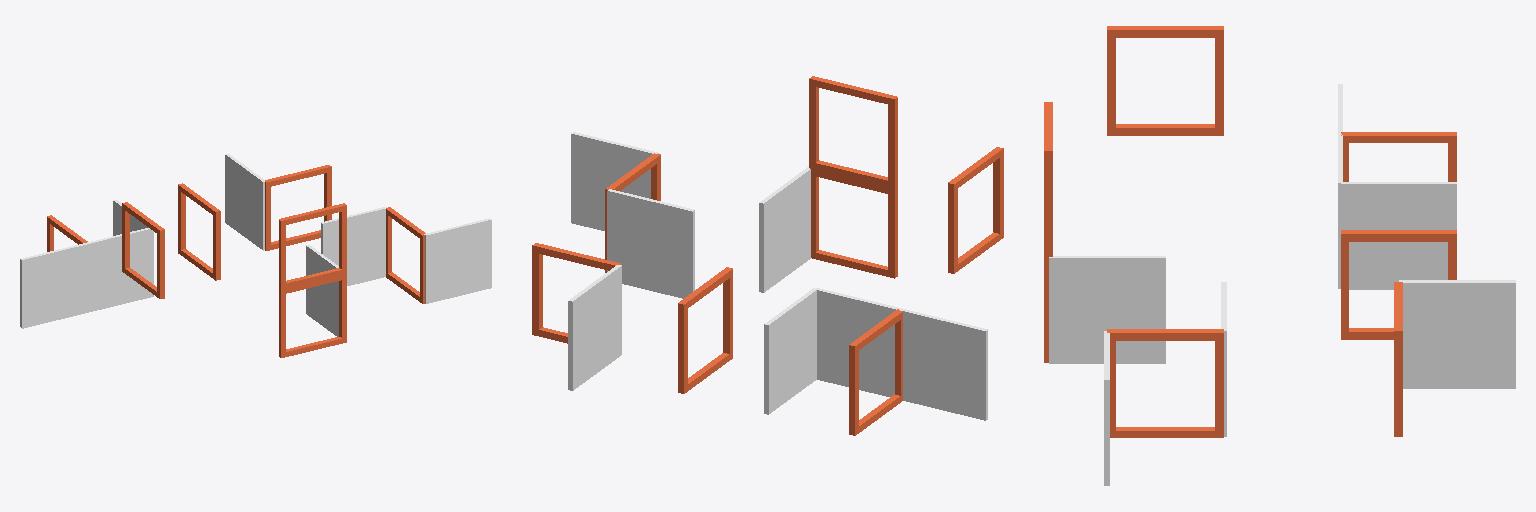
The robot description file, URDF, robot "track_walls":
<?xml version='1.0' encoding='UTF-8'?>
<robot name="track_walls">
  <link name="base">
    <inertial>
      <origin xyz="0.0 0.0 0.0" rpy="0.0 -0.0 0.0"/>
      <mass value="1.0"/>
      <inertia ixx="1.0" ixy="0.0" ixz="0.0" iyy="1.0" iyz="0.0" izz="1.0"/>
    </inertial>
  </link>
  <link name="obstacle_0">
    <inertial>
      <origin xyz="0.0 0.0 0.0" rpy="0.0 -0.0 0.0"/>
      <mass value="1.0"/>
      <inertia ixx="1.0" ixy="0.0" ixz="0.0" iyy="1.0" iyz="0.0" izz="1.0"/>
    </inertial>
    <visual>
      <geometry>
        <box size="4.  0.1 2. "/>
      </geometry>
      <material name="color[1.0, 1.0, 1.0, 1.0]"/>
      <origin xyz="0.0 0.0 0.0" rpy="0.0 -0.0 0.0"/>
    </visual>
    <collision>
      <geometry>
        <box size="4.  0.1 2. "/>
      </geometry>
      <origin xyz="0.0 0.0 0.0" rpy="0.0 -0.0 0.0"/>
    </collision>
  </link>
  <link name="obstacle_1">
    <inertial>
      <origin xyz="0.0 0.0 0.0" rpy="0.0 -0.0 0.0"/>
      <mass value="1.0"/>
      <inertia ixx="1.0" ixy="0.0" ixz="0.0" iyy="1.0" iyz="0.0" izz="1.0"/>
    </inertial>
    <visual>
      <geometry>
        <box size="0.1 2.  2. "/>
      </geometry>
      <material name="color[1.0, 1.0, 1.0, 1.0]"/>
      <origin xyz="0.0 0.0 0.0" rpy="0.0 -0.0 0.0"/>
    </visual>
    <collision>
      <geometry>
        <box size="0.1 2.  2. "/>
      </geometry>
      <origin xyz="0.0 0.0 0.0" rpy="0.0 -0.0 0.0"/>
    </collision>
  </link>
  <link name="obstacle_2">
    <inertial>
      <origin xyz="0.0 0.0 0.0" rpy="0.0 -0.0 0.0"/>
      <mass value="1.0"/>
      <inertia ixx="1.0" ixy="0.0" ixz="0.0" iyy="1.0" iyz="0.0" izz="1.0"/>
    </inertial>
    <visual>
      <geometry>
        <box size="0.1 2.  2. "/>
      </geometry>
      <material name="color[1.0, 1.0, 1.0, 1.0]"/>
      <origin xyz="0.0 0.0 0.0" rpy="0.0 -0.0 0.0"/>
    </visual>
    <collision>
      <geometry>
        <box size="0.1 2.  2. "/>
      </geometry>
      <origin xyz="0.0 0.0 0.0" rpy="0.0 -0.0 0.0"/>
    </collision>
  </link>
  <link name="obstacle_3">
    <inertial>
      <origin xyz="0.0 0.0 0.0" rpy="0.0 -0.0 0.0"/>
      <mass value="1.0"/>
      <inertia ixx="1.0" ixy="0.0" ixz="0.0" iyy="1.0" iyz="0.0" izz="1.0"/>
    </inertial>
    <visual>
      <geometry>
        <box size="2.  0.1 2. "/>
      </geometry>
      <material name="color[1.0, 1.0, 1.0, 1.0]"/>
      <origin xyz="0.0 0.0 0.0" rpy="0.0 -0.0 0.0"/>
    </visual>
    <collision>
      <geometry>
        <box size="2.  0.1 2. "/>
      </geometry>
      <origin xyz="0.0 0.0 0.0" rpy="0.0 -0.0 0.0"/>
    </collision>
  </link>
  <link name="obstacle_4">
    <inertial>
      <origin xyz="0.0 0.0 0.0" rpy="0.0 -0.0 0.0"/>
      <mass value="1.0"/>
      <inertia ixx="1.0" ixy="0.0" ixz="0.0" iyy="1.0" iyz="0.0" izz="1.0"/>
    </inertial>
    <visual>
      <geometry>
        <box size="2.  0.1 2. "/>
      </geometry>
      <material name="color[1.0, 1.0, 1.0, 1.0]"/>
      <origin xyz="0.0 0.0 0.0" rpy="0.0 -0.0 0.0"/>
    </visual>
    <collision>
      <geometry>
        <box size="2.  0.1 2. "/>
      </geometry>
      <origin xyz="0.0 0.0 0.0" rpy="0.0 -0.0 0.0"/>
    </collision>
  </link>
  <link name="obstacle_5">
    <inertial>
      <origin xyz="0.0 0.0 0.0" rpy="0.0 -0.0 0.0"/>
      <mass value="1.0"/>
      <inertia ixx="1.0" ixy="0.0" ixz="0.0" iyy="1.0" iyz="0.0" izz="1.0"/>
    </inertial>
    <visual>
      <geometry>
        <box size="0.1 2.  2. "/>
      </geometry>
      <material name="color[1.0, 1.0, 1.0, 1.0]"/>
      <origin xyz="0.0 0.0 0.0" rpy="0.0 -0.0 0.0"/>
    </visual>
    <collision>
      <geometry>
        <box size="0.1 2.  2. "/>
      </geometry>
      <origin xyz="0.0 0.0 0.0" rpy="0.0 -0.0 0.0"/>
    </collision>
  </link>
  <link name="gate_1">
    <inertial>
      <origin xyz="0.0 0.0 0.0" rpy="0.0 -0.0 0.0"/>
      <mass value="1.0"/>
      <inertia ixx="1.0" ixy="0.0" ixz="0.0" iyy="1.0" iyz="0.0" izz="1.0"/>
    </inertial>
    <visual>
      <geometry>
        <box size="0.15 2.   0.15"/>
      </geometry>
      <material name="color[1.0, 0.5, 0.3, 1.0]"/>
      <origin xyz="0.0 0.0 0.925" rpy="0.0 0.0 0.0"/>
    </visual>
    <visual>
      <geometry>
        <box size="0.15 2.   0.15"/>
      </geometry>
      <material name="color[1.0, 0.5, 0.3, 1.0]"/>
      <origin xyz="0.0 0.0 -0.925" rpy="0.0 0.0 0.0"/>
    </visual>
    <visual>
      <geometry>
        <box size="0.15 0.15 2.  "/>
      </geometry>
      <material name="color[1.0, 0.5, 0.3, 1.0]"/>
      <origin xyz="0.0 0.925 0.0" rpy="0.0 0.0 0.0"/>
    </visual>
    <visual>
      <geometry>
        <box size="0.15 0.15 2.  "/>
      </geometry>
      <material name="color[1.0, 0.5, 0.3, 1.0]"/>
      <origin xyz="0.0 -0.925 0.0" rpy="0.0 0.0 0.0"/>
    </visual>
    <collision>
      <geometry>
        <box size="0.15 2.   0.15"/>
      </geometry>
      <origin xyz="0.0 0.0 0.925" rpy="0.0 0.0 0.0"/>
    </collision>
    <collision>
      <geometry>
        <box size="0.15 2.   0.15"/>
      </geometry>
      <origin xyz="0.0 0.0 -0.925" rpy="0.0 0.0 0.0"/>
    </collision>
    <collision>
      <geometry>
        <box size="0.15 0.15 2.  "/>
      </geometry>
      <origin xyz="0.0 0.925 0.0" rpy="0.0 0.0 0.0"/>
    </collision>
    <collision>
      <geometry>
        <box size="0.15 0.15 2.  "/>
      </geometry>
      <origin xyz="0.0 -0.925 0.0" rpy="0.0 0.0 0.0"/>
    </collision>
  </link>
  <link name="gate_2">
    <inertial>
      <origin xyz="0.0 0.0 0.0" rpy="0.0 -0.0 0.0"/>
      <mass value="1.0"/>
      <inertia ixx="1.0" ixy="0.0" ixz="0.0" iyy="1.0" iyz="0.0" izz="1.0"/>
    </inertial>
    <visual>
      <geometry>
        <box size="0.15 2.   0.15"/>
      </geometry>
      <material name="color[1.0, 0.5, 0.3, 1.0]"/>
      <origin xyz="0.0 0.0 0.925" rpy="0.0 0.0 0.0"/>
    </visual>
    <visual>
      <geometry>
        <box size="0.15 2.   0.15"/>
      </geometry>
      <material name="color[1.0, 0.5, 0.3, 1.0]"/>
      <origin xyz="0.0 0.0 -0.925" rpy="0.0 0.0 0.0"/>
    </visual>
    <visual>
      <geometry>
        <box size="0.15 0.15 2.  "/>
      </geometry>
      <material name="color[1.0, 0.5, 0.3, 1.0]"/>
      <origin xyz="0.0 0.925 0.0" rpy="0.0 0.0 0.0"/>
    </visual>
    <visual>
      <geometry>
        <box size="0.15 0.15 2.  "/>
      </geometry>
      <material name="color[1.0, 0.5, 0.3, 1.0]"/>
      <origin xyz="0.0 -0.925 0.0" rpy="0.0 0.0 0.0"/>
    </visual>
    <collision>
      <geometry>
        <box size="0.15 2.   0.15"/>
      </geometry>
      <origin xyz="0.0 0.0 0.925" rpy="0.0 0.0 0.0"/>
    </collision>
    <collision>
      <geometry>
        <box size="0.15 2.   0.15"/>
      </geometry>
      <origin xyz="0.0 0.0 -0.925" rpy="0.0 0.0 0.0"/>
    </collision>
    <collision>
      <geometry>
        <box size="0.15 0.15 2.  "/>
      </geometry>
      <origin xyz="0.0 0.925 0.0" rpy="0.0 0.0 0.0"/>
    </collision>
    <collision>
      <geometry>
        <box size="0.15 0.15 2.  "/>
      </geometry>
      <origin xyz="0.0 -0.925 0.0" rpy="0.0 0.0 0.0"/>
    </collision>
  </link>
  <link name="gate_3">
    <inertial>
      <origin xyz="0.0 0.0 0.0" rpy="0.0 -0.0 0.0"/>
      <mass value="1.0"/>
      <inertia ixx="1.0" ixy="0.0" ixz="0.0" iyy="1.0" iyz="0.0" izz="1.0"/>
    </inertial>
    <visual>
      <geometry>
        <box size="0.15 2.   0.15"/>
      </geometry>
      <material name="color[1.0, 0.5, 0.3, 1.0]"/>
      <origin xyz="0.0 0.0 0.925" rpy="0.0 0.0 0.0"/>
    </visual>
    <visual>
      <geometry>
        <box size="0.15 2.   0.15"/>
      </geometry>
      <material name="color[1.0, 0.5, 0.3, 1.0]"/>
      <origin xyz="0.0 0.0 -0.925" rpy="0.0 0.0 0.0"/>
    </visual>
    <visual>
      <geometry>
        <box size="0.15 0.15 2.  "/>
      </geometry>
      <material name="color[1.0, 0.5, 0.3, 1.0]"/>
      <origin xyz="0.0 0.925 0.0" rpy="0.0 0.0 0.0"/>
    </visual>
    <visual>
      <geometry>
        <box size="0.15 0.15 2.  "/>
      </geometry>
      <material name="color[1.0, 0.5, 0.3, 1.0]"/>
      <origin xyz="0.0 -0.925 0.0" rpy="0.0 0.0 0.0"/>
    </visual>
    <collision>
      <geometry>
        <box size="0.15 2.   0.15"/>
      </geometry>
      <origin xyz="0.0 0.0 0.925" rpy="0.0 0.0 0.0"/>
    </collision>
    <collision>
      <geometry>
        <box size="0.15 2.   0.15"/>
      </geometry>
      <origin xyz="0.0 0.0 -0.925" rpy="0.0 0.0 0.0"/>
    </collision>
    <collision>
      <geometry>
        <box size="0.15 0.15 2.  "/>
      </geometry>
      <origin xyz="0.0 0.925 0.0" rpy="0.0 0.0 0.0"/>
    </collision>
    <collision>
      <geometry>
        <box size="0.15 0.15 2.  "/>
      </geometry>
      <origin xyz="0.0 -0.925 0.0" rpy="0.0 0.0 0.0"/>
    </collision>
  </link>
  <link name="gate_4">
    <inertial>
      <origin xyz="0.0 0.0 0.0" rpy="0.0 -0.0 0.0"/>
      <mass value="1.0"/>
      <inertia ixx="1.0" ixy="0.0" ixz="0.0" iyy="1.0" iyz="0.0" izz="1.0"/>
    </inertial>
    <visual>
      <geometry>
        <box size="0.15 2.   0.15"/>
      </geometry>
      <material name="color[1.0, 0.5, 0.3, 1.0]"/>
      <origin xyz="0.0 0.0 0.925" rpy="0.0 0.0 0.0"/>
    </visual>
    <visual>
      <geometry>
        <box size="0.15 2.   0.15"/>
      </geometry>
      <material name="color[1.0, 0.5, 0.3, 1.0]"/>
      <origin xyz="0.0 0.0 -0.925" rpy="0.0 0.0 0.0"/>
    </visual>
    <visual>
      <geometry>
        <box size="0.15 0.15 2.  "/>
      </geometry>
      <material name="color[1.0, 0.5, 0.3, 1.0]"/>
      <origin xyz="0.0 0.925 0.0" rpy="0.0 0.0 0.0"/>
    </visual>
    <visual>
      <geometry>
        <box size="0.15 0.15 2.  "/>
      </geometry>
      <material name="color[1.0, 0.5, 0.3, 1.0]"/>
      <origin xyz="0.0 -0.925 0.0" rpy="0.0 0.0 0.0"/>
    </visual>
    <collision>
      <geometry>
        <box size="0.15 2.   0.15"/>
      </geometry>
      <origin xyz="0.0 0.0 0.925" rpy="0.0 0.0 0.0"/>
    </collision>
    <collision>
      <geometry>
        <box size="0.15 2.   0.15"/>
      </geometry>
      <origin xyz="0.0 0.0 -0.925" rpy="0.0 0.0 0.0"/>
    </collision>
    <collision>
      <geometry>
        <box size="0.15 0.15 2.  "/>
      </geometry>
      <origin xyz="0.0 0.925 0.0" rpy="0.0 0.0 0.0"/>
    </collision>
    <collision>
      <geometry>
        <box size="0.15 0.15 2.  "/>
      </geometry>
      <origin xyz="0.0 -0.925 0.0" rpy="0.0 0.0 0.0"/>
    </collision>
  </link>
  <link name="gate_5">
    <inertial>
      <origin xyz="0.0 0.0 0.0" rpy="0.0 -0.0 0.0"/>
      <mass value="1.0"/>
      <inertia ixx="1.0" ixy="0.0" ixz="0.0" iyy="1.0" iyz="0.0" izz="1.0"/>
    </inertial>
    <visual>
      <geometry>
        <box size="0.15 2.   0.15"/>
      </geometry>
      <material name="color[1.0, 0.5, 0.3, 1.0]"/>
      <origin xyz="0.0 0.0 0.925" rpy="0.0 0.0 0.0"/>
    </visual>
    <visual>
      <geometry>
        <box size="0.15 2.   0.15"/>
      </geometry>
      <material name="color[1.0, 0.5, 0.3, 1.0]"/>
      <origin xyz="0.0 0.0 -0.925" rpy="0.0 0.0 0.0"/>
    </visual>
    <visual>
      <geometry>
        <box size="0.15 0.15 2.  "/>
      </geometry>
      <material name="color[1.0, 0.5, 0.3, 1.0]"/>
      <origin xyz="0.0 0.925 0.0" rpy="0.0 0.0 0.0"/>
    </visual>
    <visual>
      <geometry>
        <box size="0.15 0.15 2.  "/>
      </geometry>
      <material name="color[1.0, 0.5, 0.3, 1.0]"/>
      <origin xyz="0.0 -0.925 0.0" rpy="0.0 0.0 0.0"/>
    </visual>
    <collision>
      <geometry>
        <box size="0.15 2.   0.15"/>
      </geometry>
      <origin xyz="0.0 0.0 0.925" rpy="0.0 0.0 0.0"/>
    </collision>
    <collision>
      <geometry>
        <box size="0.15 2.   0.15"/>
      </geometry>
      <origin xyz="0.0 0.0 -0.925" rpy="0.0 0.0 0.0"/>
    </collision>
    <collision>
      <geometry>
        <box size="0.15 0.15 2.  "/>
      </geometry>
      <origin xyz="0.0 0.925 0.0" rpy="0.0 0.0 0.0"/>
    </collision>
    <collision>
      <geometry>
        <box size="0.15 0.15 2.  "/>
      </geometry>
      <origin xyz="0.0 -0.925 0.0" rpy="0.0 0.0 0.0"/>
    </collision>
  </link>
  <link name="gate_6">
    <inertial>
      <origin xyz="0.0 0.0 0.0" rpy="0.0 -0.0 0.0"/>
      <mass value="1.0"/>
      <inertia ixx="1.0" ixy="0.0" ixz="0.0" iyy="1.0" iyz="0.0" izz="1.0"/>
    </inertial>
    <visual>
      <geometry>
        <box size="0.15 2.   0.15"/>
      </geometry>
      <material name="color[1.0, 0.5, 0.3, 1.0]"/>
      <origin xyz="0.0 0.0 0.925" rpy="0.0 0.0 0.0"/>
    </visual>
    <visual>
      <geometry>
        <box size="0.15 2.   0.15"/>
      </geometry>
      <material name="color[1.0, 0.5, 0.3, 1.0]"/>
      <origin xyz="0.0 0.0 -0.925" rpy="0.0 0.0 0.0"/>
    </visual>
    <visual>
      <geometry>
        <box size="0.15 0.15 2.  "/>
      </geometry>
      <material name="color[1.0, 0.5, 0.3, 1.0]"/>
      <origin xyz="0.0 0.925 0.0" rpy="0.0 0.0 0.0"/>
    </visual>
    <visual>
      <geometry>
        <box size="0.15 0.15 2.  "/>
      </geometry>
      <material name="color[1.0, 0.5, 0.3, 1.0]"/>
      <origin xyz="0.0 -0.925 0.0" rpy="0.0 0.0 0.0"/>
    </visual>
    <collision>
      <geometry>
        <box size="0.15 2.   0.15"/>
      </geometry>
      <origin xyz="0.0 0.0 0.925" rpy="0.0 0.0 0.0"/>
    </collision>
    <collision>
      <geometry>
        <box size="0.15 2.   0.15"/>
      </geometry>
      <origin xyz="0.0 0.0 -0.925" rpy="0.0 0.0 0.0"/>
    </collision>
    <collision>
      <geometry>
        <box size="0.15 0.15 2.  "/>
      </geometry>
      <origin xyz="0.0 0.925 0.0" rpy="0.0 0.0 0.0"/>
    </collision>
    <collision>
      <geometry>
        <box size="0.15 0.15 2.  "/>
      </geometry>
      <origin xyz="0.0 -0.925 0.0" rpy="0.0 0.0 0.0"/>
    </collision>
  </link>
  <link name="gate_7">
    <inertial>
      <origin xyz="0.0 0.0 0.0" rpy="0.0 -0.0 0.0"/>
      <mass value="1.0"/>
      <inertia ixx="1.0" ixy="0.0" ixz="0.0" iyy="1.0" iyz="0.0" izz="1.0"/>
    </inertial>
    <visual>
      <geometry>
        <box size="0.15 2.   0.15"/>
      </geometry>
      <material name="color[1.0, 0.5, 0.3, 1.0]"/>
      <origin xyz="0.0 0.0 0.925" rpy="0.0 0.0 0.0"/>
    </visual>
    <visual>
      <geometry>
        <box size="0.15 2.   0.15"/>
      </geometry>
      <material name="color[1.0, 0.5, 0.3, 1.0]"/>
      <origin xyz="0.0 0.0 -0.925" rpy="0.0 0.0 0.0"/>
    </visual>
    <visual>
      <geometry>
        <box size="0.15 0.15 2.  "/>
      </geometry>
      <material name="color[1.0, 0.5, 0.3, 1.0]"/>
      <origin xyz="0.0 0.925 0.0" rpy="0.0 0.0 0.0"/>
    </visual>
    <visual>
      <geometry>
        <box size="0.15 0.15 2.  "/>
      </geometry>
      <material name="color[1.0, 0.5, 0.3, 1.0]"/>
      <origin xyz="0.0 -0.925 0.0" rpy="0.0 0.0 0.0"/>
    </visual>
    <collision>
      <geometry>
        <box size="0.15 2.   0.15"/>
      </geometry>
      <origin xyz="0.0 0.0 0.925" rpy="0.0 0.0 0.0"/>
    </collision>
    <collision>
      <geometry>
        <box size="0.15 2.   0.15"/>
      </geometry>
      <origin xyz="0.0 0.0 -0.925" rpy="0.0 0.0 0.0"/>
    </collision>
    <collision>
      <geometry>
        <box size="0.15 0.15 2.  "/>
      </geometry>
      <origin xyz="0.0 0.925 0.0" rpy="0.0 0.0 0.0"/>
    </collision>
    <collision>
      <geometry>
        <box size="0.15 0.15 2.  "/>
      </geometry>
      <origin xyz="0.0 -0.925 0.0" rpy="0.0 0.0 0.0"/>
    </collision>
  </link>
  <joint name="base_obstacle_0" type="fixed">
    <parent link="base"/>
    <child link="obstacle_0"/>
    <axis xyz="1. 0. 0."/>
    <origin xyz="-4.0 2.0 1.0" rpy="0.0 0.0 0.0"/>
  </joint>
  <joint name="base_obstacle_1" type="fixed">
    <parent link="base"/>
    <child link="obstacle_1"/>
    <axis xyz="1. 0. 0."/>
    <origin xyz="-2.0 3.0 1.0" rpy="0.0 0.0 0.0"/>
  </joint>
  <joint name="base_obstacle_2" type="fixed">
    <parent link="base"/>
    <child link="obstacle_2"/>
    <axis xyz="1. 0. 0."/>
    <origin xyz="2.0 4.0 1.0" rpy="0.0 0.0 0.0"/>
  </joint>
  <joint name="base_obstacle_3" type="fixed">
    <parent link="base"/>
    <child link="obstacle_3"/>
    <axis xyz="1. 0. 0."/>
    <origin xyz="3.0 0.0 1.0" rpy="0.0 0.0 0.0"/>
  </joint>
  <joint name="base_obstacle_4" type="fixed">
    <parent link="base"/>
    <child link="obstacle_4"/>
    <axis xyz="1. 0. 0."/>
    <origin xyz="5.0 -2.0 1.0" rpy="0.0 0.0 0.0"/>
  </joint>
  <joint name="base_obstacle_5" type="fixed">
    <parent link="base"/>
    <child link="obstacle_5"/>
    <axis xyz="1. 0. 0."/>
    <origin xyz="1.0 -2.0 1.0" rpy="0.0 0.0 0.0"/>
  </joint>
  <joint name="base_gate_1" type="fixed">
    <parent link="base"/>
    <child link="gate_1"/>
    <axis xyz="1. 0. 0."/>
    <origin xyz="-4.0 3.0 1.0" rpy="0.0 0.0 0.0"/>
  </joint>
  <joint name="base_gate_2" type="fixed">
    <parent link="base"/>
    <child link="gate_2"/>
    <axis xyz="1. 0. 0."/>
    <origin xyz="0.0 3.0 1.0" rpy="0.0 0.0 0.0"/>
  </joint>
  <joint name="base_gate_3" type="fixed">
    <parent link="base"/>
    <child link="gate_3"/>
    <axis xyz="1. 0. 0."/>
    <origin xyz="3.0 3.0 1.0" rpy="0.0 0.0 -1.5707963267948966"/>
  </joint>
  <joint name="base_gate_4" type="fixed">
    <parent link="base"/>
    <child link="gate_4"/>
    <axis xyz="1. 0. 0."/>
    <origin xyz="4.0 -1.0 1.0" rpy="0.0 0.0 0.0"/>
  </joint>
  <joint name="base_gate_5" type="fixed">
    <parent link="base"/>
    <child link="gate_5"/>
    <axis xyz="1. 0. 0."/>
    <origin xyz="0.0 -3.0 1.0" rpy="0.0 0.0 -1.5707963267948966"/>
  </joint>
  <joint name="base_gate_6" type="fixed">
    <parent link="base"/>
    <child link="gate_6"/>
    <axis xyz="1. 0. 0."/>
    <origin xyz="0.0 -3.0 3.0" rpy="0.0 0.0 1.5707963267948966"/>
  </joint>
  <joint name="base_gate_7" type="fixed">
    <parent link="base"/>
    <child link="gate_7"/>
    <axis xyz="1. 0. 0."/>
    <origin xyz="-4.0 -1.0 3.0" rpy="0.0 0.0 3.141592653589793"/>
  </joint>
  <material name="color[1.0, 1.0, 1.0, 1.0]">
    <color rgba="1. 1. 1. 1."/>
  </material>
  <material name="color[1.0, 0.5, 0.3, 1.0]">
    <color rgba="1.  0.5 0.3 1. "/>
  </material>
</robot>

--- Facts derived from the render (not from the file) ---
Views: 3 orthographic renders of the robot side by side, from view 1: azimuth 30°, elevation 25°; view 2: azimuth 150°, elevation 25°; view 3: azimuth 270°, elevation 25°.
Model track_walls with 14 links and 13 joints (13 fixed), rooted at base, posed every joint at zero.
Visible links, largest first — view 1: obstacle_0, obstacle_4, obstacle_3, obstacle_2, obstacle_5, gate_6, gate_5, gate_2, gate_7, gate_3, gate_4, gate_1; view 2: obstacle_0, obstacle_3, obstacle_2, obstacle_1, obstacle_4, obstacle_5, gate_6, gate_7, gate_2, gate_5, gate_1, gate_3 (+1 smaller); view 3: obstacle_2, obstacle_5, obstacle_1, gate_7, gate_4, gate_2, gate_1, gate_3, gate_6, obstacle_4, obstacle_0, obstacle_3 (+1 smaller).
Boxes of the visible links, left/top/right/bottom form: obstacle_0: left=20, top=228, right=153, bottom=328; obstacle_4: left=424, top=218, right=491, bottom=303; obstacle_3: left=321, top=207, right=387, bottom=285; obstacle_2: left=225, top=154, right=264, bottom=250; obstacle_5: left=306, top=245, right=338, bottom=336; gate_6: left=279, top=203, right=346, bottom=289; gate_5: left=279, top=274, right=346, bottom=357; gate_2: left=178, top=183, right=220, bottom=280; gate_7: left=122, top=202, right=164, bottom=298; gate_3: left=265, top=165, right=331, bottom=250; gate_4: left=386, top=207, right=425, bottom=303; gate_1: left=47, top=215, right=87, bottom=251; obstacle_0: left=816, top=288, right=987, bottom=420; obstacle_3: left=607, top=189, right=694, bottom=298; obstacle_2: left=568, top=265, right=621, bottom=390; obstacle_1: left=764, top=288, right=817, bottom=414; obstacle_4: left=571, top=132, right=658, bottom=230; obstacle_5: left=759, top=167, right=810, bottom=292; gate_6: left=809, top=76, right=897, bottom=188; gate_7: left=948, top=147, right=1003, bottom=273; gate_2: left=678, top=267, right=732, bottom=393; gate_5: left=811, top=169, right=897, bottom=278; gate_1: left=849, top=309, right=902, bottom=435; gate_3: left=532, top=243, right=621, bottom=343; obstacle_2: left=1399, top=280, right=1515, bottom=388; obstacle_5: left=1049, top=256, right=1165, bottom=363; obstacle_1: left=1341, top=182, right=1456, bottom=289; gate_7: left=1107, top=26, right=1223, bottom=135; gate_4: left=1107, top=329, right=1223, bottom=437; gate_2: left=1341, top=230, right=1456, bottom=339; gate_1: left=1341, top=132, right=1456, bottom=181; gate_3: left=1394, top=282, right=1402, bottom=436; gate_6: left=1044, top=102, right=1052, bottom=256; obstacle_4: left=1104, top=331, right=1109, bottom=485; obstacle_0: left=1338, top=84, right=1342, bottom=288; obstacle_3: left=1221, top=282, right=1226, bottom=436.
Size in the robot's own frame: 12 by 8.07 by 4 metres.
Geometry: primitives only (box / cylinder / sphere), no mesh files.
